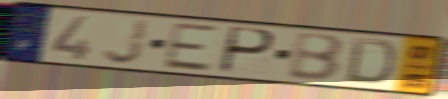4: (50, 14, 93, 62)
B: (286, 32, 347, 84)
D: (343, 35, 398, 87)
E: (160, 21, 220, 74)
J: (100, 17, 152, 67)
P: (216, 25, 278, 76)
